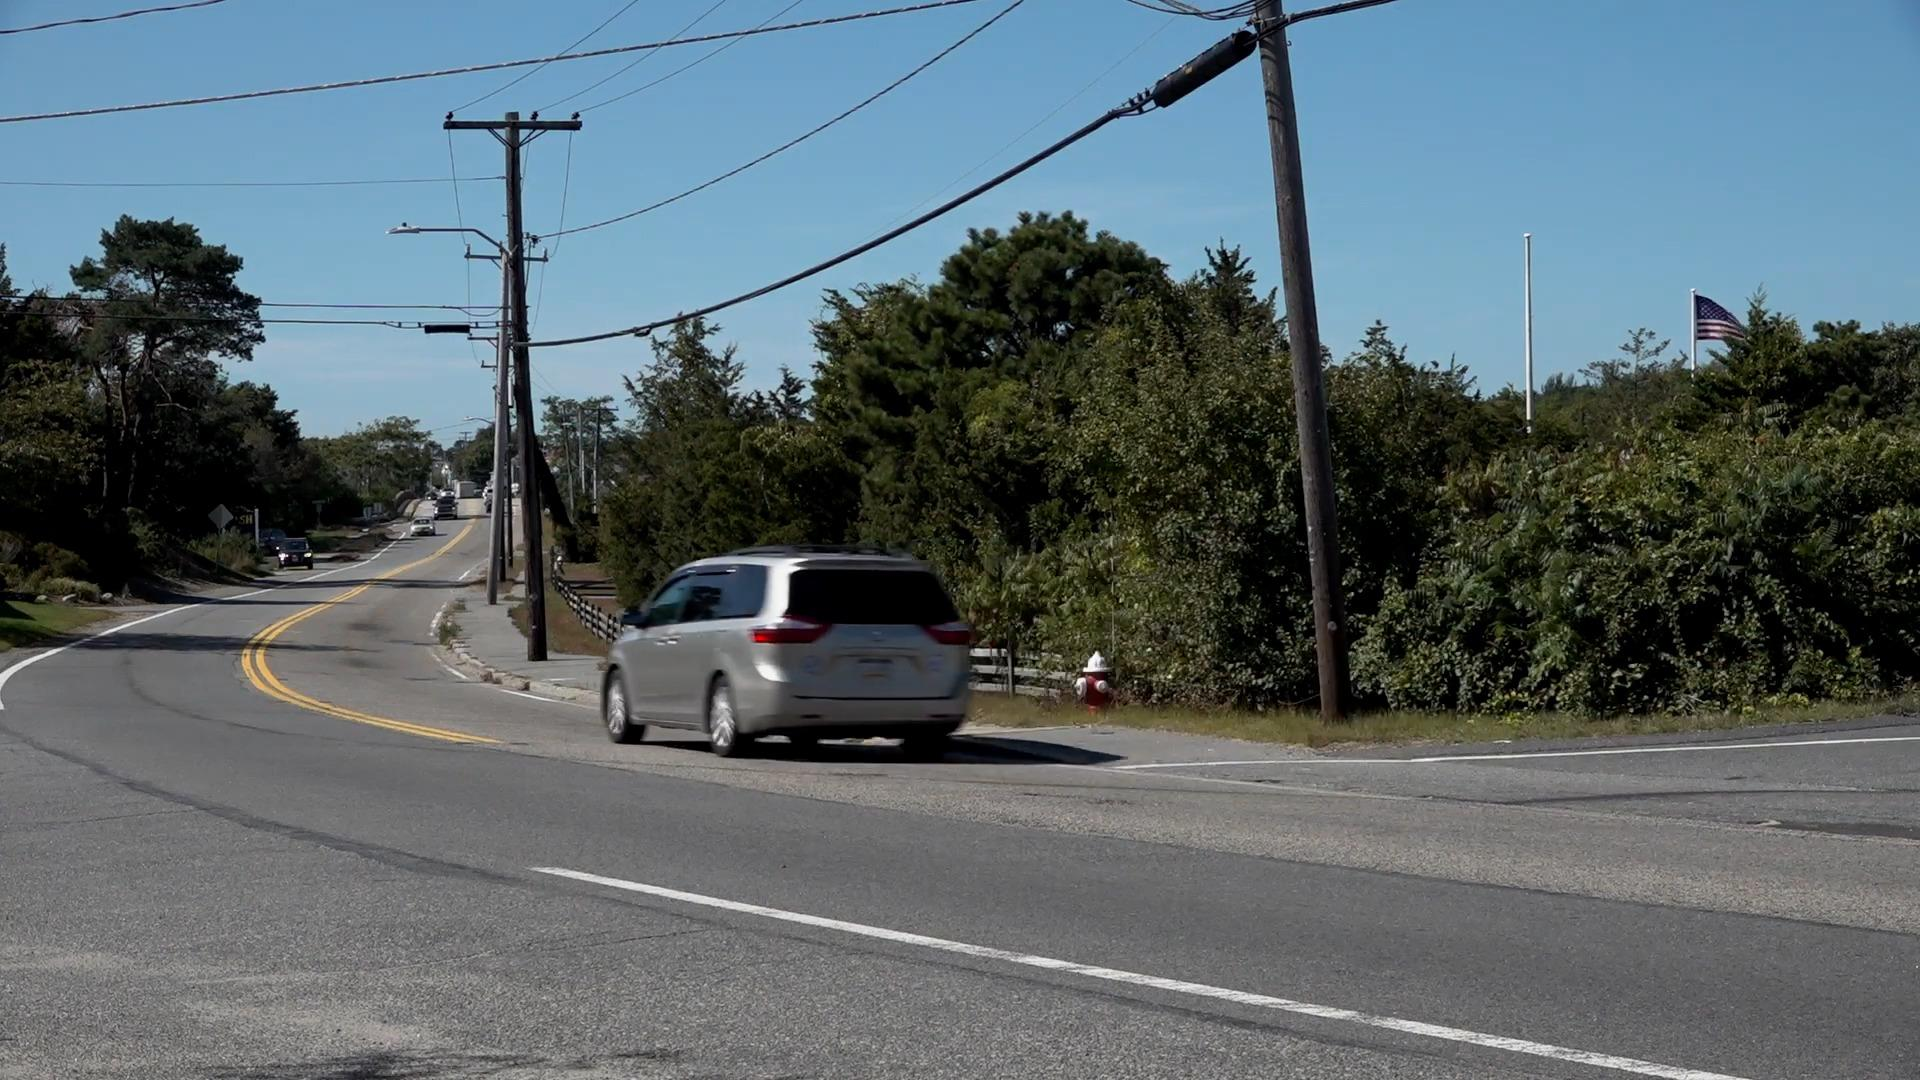minivan: (605, 543, 975, 757)
